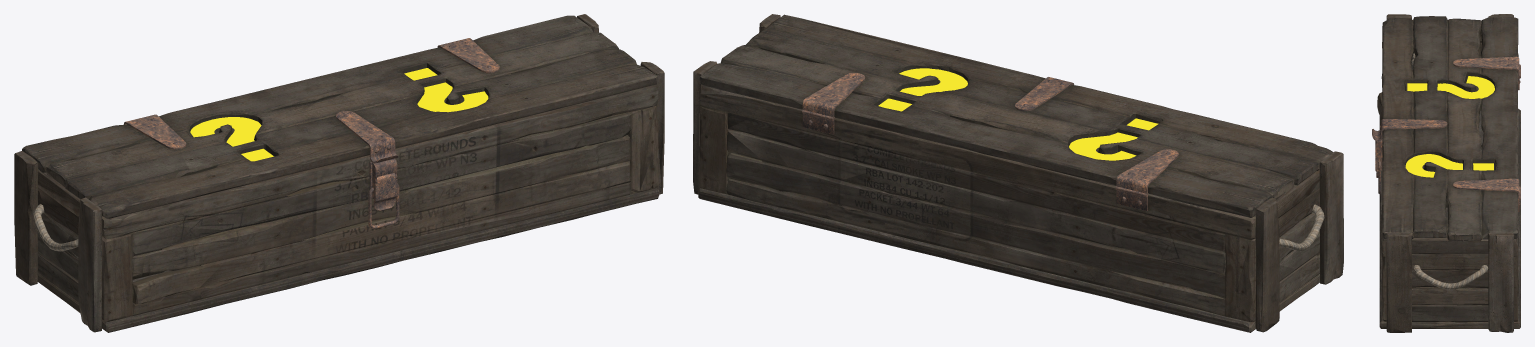
Rendered from mystery_box.glb.
3 renders of one model, left to right at view 1: azimuth 30°, elevation 25°; view 2: azimuth 150°, elevation 25°; view 3: azimuth 270°, elevation 25°, orthographic. The views are drawn at different scales.
Visible parts, largest first — view 1: box_0; view 2: box_0; view 3: box_0.
Part boxes in pixels (x1,y1,x2,y2): box_0: [14, 14, 664, 332]; box_0: [693, 14, 1343, 332]; box_0: [1372, 14, 1520, 332].
Bounding box in the file's own units: 2.4 × 0.4944 × 0.6695.
Materials: 9 (5 with a texture image).
